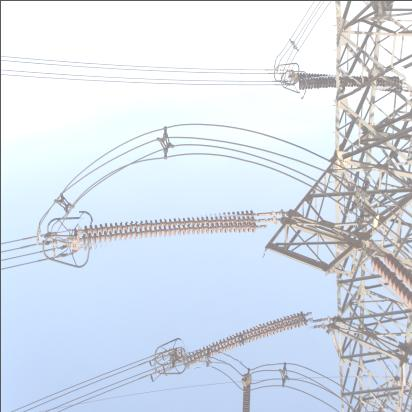insulator: (78, 207, 267, 257), (180, 314, 316, 366), (299, 70, 407, 97)
